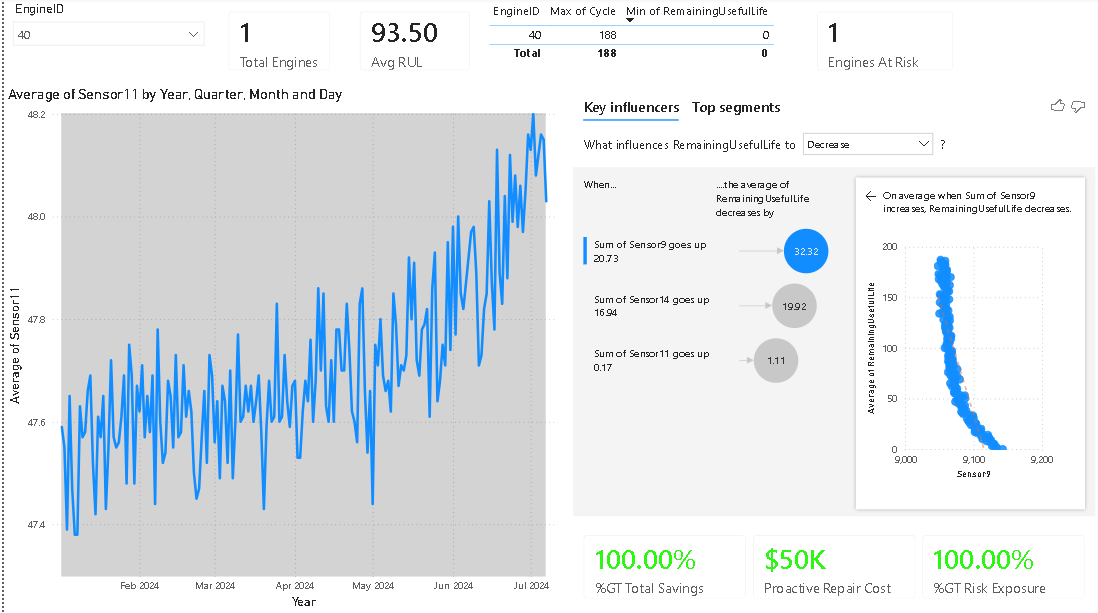

What the dashboard file says about the page in this screenshot:
{"tool":"powerbi","page":{"name":"Page 1","canvas":[1280,720],"ordinal":0},"visuals":[{"type":"cardVisual","fields":{"Data":["vw_Fact_EngineHealth.Total Engines"]},"box":[245,0,153.3,103.3],"z":0},{"type":"cardVisual","fields":{"Data":["vw_Fact_EngineHealth.Avg RUL"]},"box":[398.3,0,163.3,103.3],"z":1000},{"type":"tableEx","fields":{"Values":["vw_Dim_Engine.EngineID","Max(vw_Fact_EngineHealth.Cycle)","Min(vw_Fact_EngineHealth.RemainingUsefulLife)"]},"box":[561.7,0,371.7,103.3],"z":2000},{"type":"lineChart","fields":{"Y":["Avg(vw_Fact_EngineHealth.Sensor11)"],"Category":["vw_Fact_EngineHealth.Simulated Date.Variation.Date Hierarchy.Year","vw_Fact_EngineHealth.Simulated Date.Variation.Date Hierarchy.Quarter","vw_Fact_EngineHealth.Simulated Date.Variation.Date Hierarchy.Month","vw_Fact_EngineHealth.Simulated Date.Variation.Date Hierarchy.Day"]},"box":[0,103.3,660,616.7],"z":3000},{"type":"slicer","fields":{"Values":["vw_Dim_Engine.EngineID"]},"box":[0,0,244.7,103.7],"z":4000},{"type":"cardVisual","fields":{"Data":["vw_Fact_EngineHealth.Engines At Risk"]},"box":[933.3,0,193.3,103.3],"z":5000},{"type":"keyDriversVisual","fields":{"Target":["vw_Fact_EngineHealth.RemainingUsefulLife"],"ExplainBy":["Sum(vw_Fact_EngineHealth.Sensor11)","Sum(vw_Fact_EngineHealth.Sensor14)","Sum(vw_Fact_EngineHealth.Sensor9)"]},"box":[660,103.3,620,508.3],"z":6000},{"type":"cardVisual","fields":{"Data":["vw_Fact_EngineHealth.Total Savings","vw_Fact_EngineHealth.Proactive Repair Cost","vw_Fact_EngineHealth.Risk Exposure"]},"box":[660,611.7,620,108.3],"z":6001}]}

Visuals, with their boxes in screenshot pixels (x1, y1, x2, y2), scaled from the page's 1280x720 canvas onto the 1098x613 screenshot:
cardVisual - vw_Fact_EngineHealth.Total Engines: [left=210, top=0, right=342, bottom=88]
cardVisual - vw_Fact_EngineHealth.Avg RUL: [left=342, top=0, right=482, bottom=88]
tableEx - vw_Dim_Engine.EngineID x Max(vw_Fact_EngineHealth.Cycle): [left=482, top=0, right=801, bottom=88]
lineChart - Avg(vw_Fact_EngineHealth.Sensor11) x vw_Fact_EngineHealth.Simulated Date.Variation.Date Hierarchy.Year: [left=0, top=88, right=566, bottom=612]
slicer - vw_Dim_Engine.EngineID: [left=0, top=0, right=210, bottom=88]
cardVisual - vw_Fact_EngineHealth.Engines At Risk: [left=801, top=0, right=966, bottom=88]
keyDriversVisual - vw_Fact_EngineHealth.RemainingUsefulLife x Sum(vw_Fact_EngineHealth.Sensor11): [left=566, top=88, right=1097, bottom=521]
cardVisual - vw_Fact_EngineHealth.Total Savings x vw_Fact_EngineHealth.Proactive Repair Cost: [left=566, top=521, right=1097, bottom=612]
